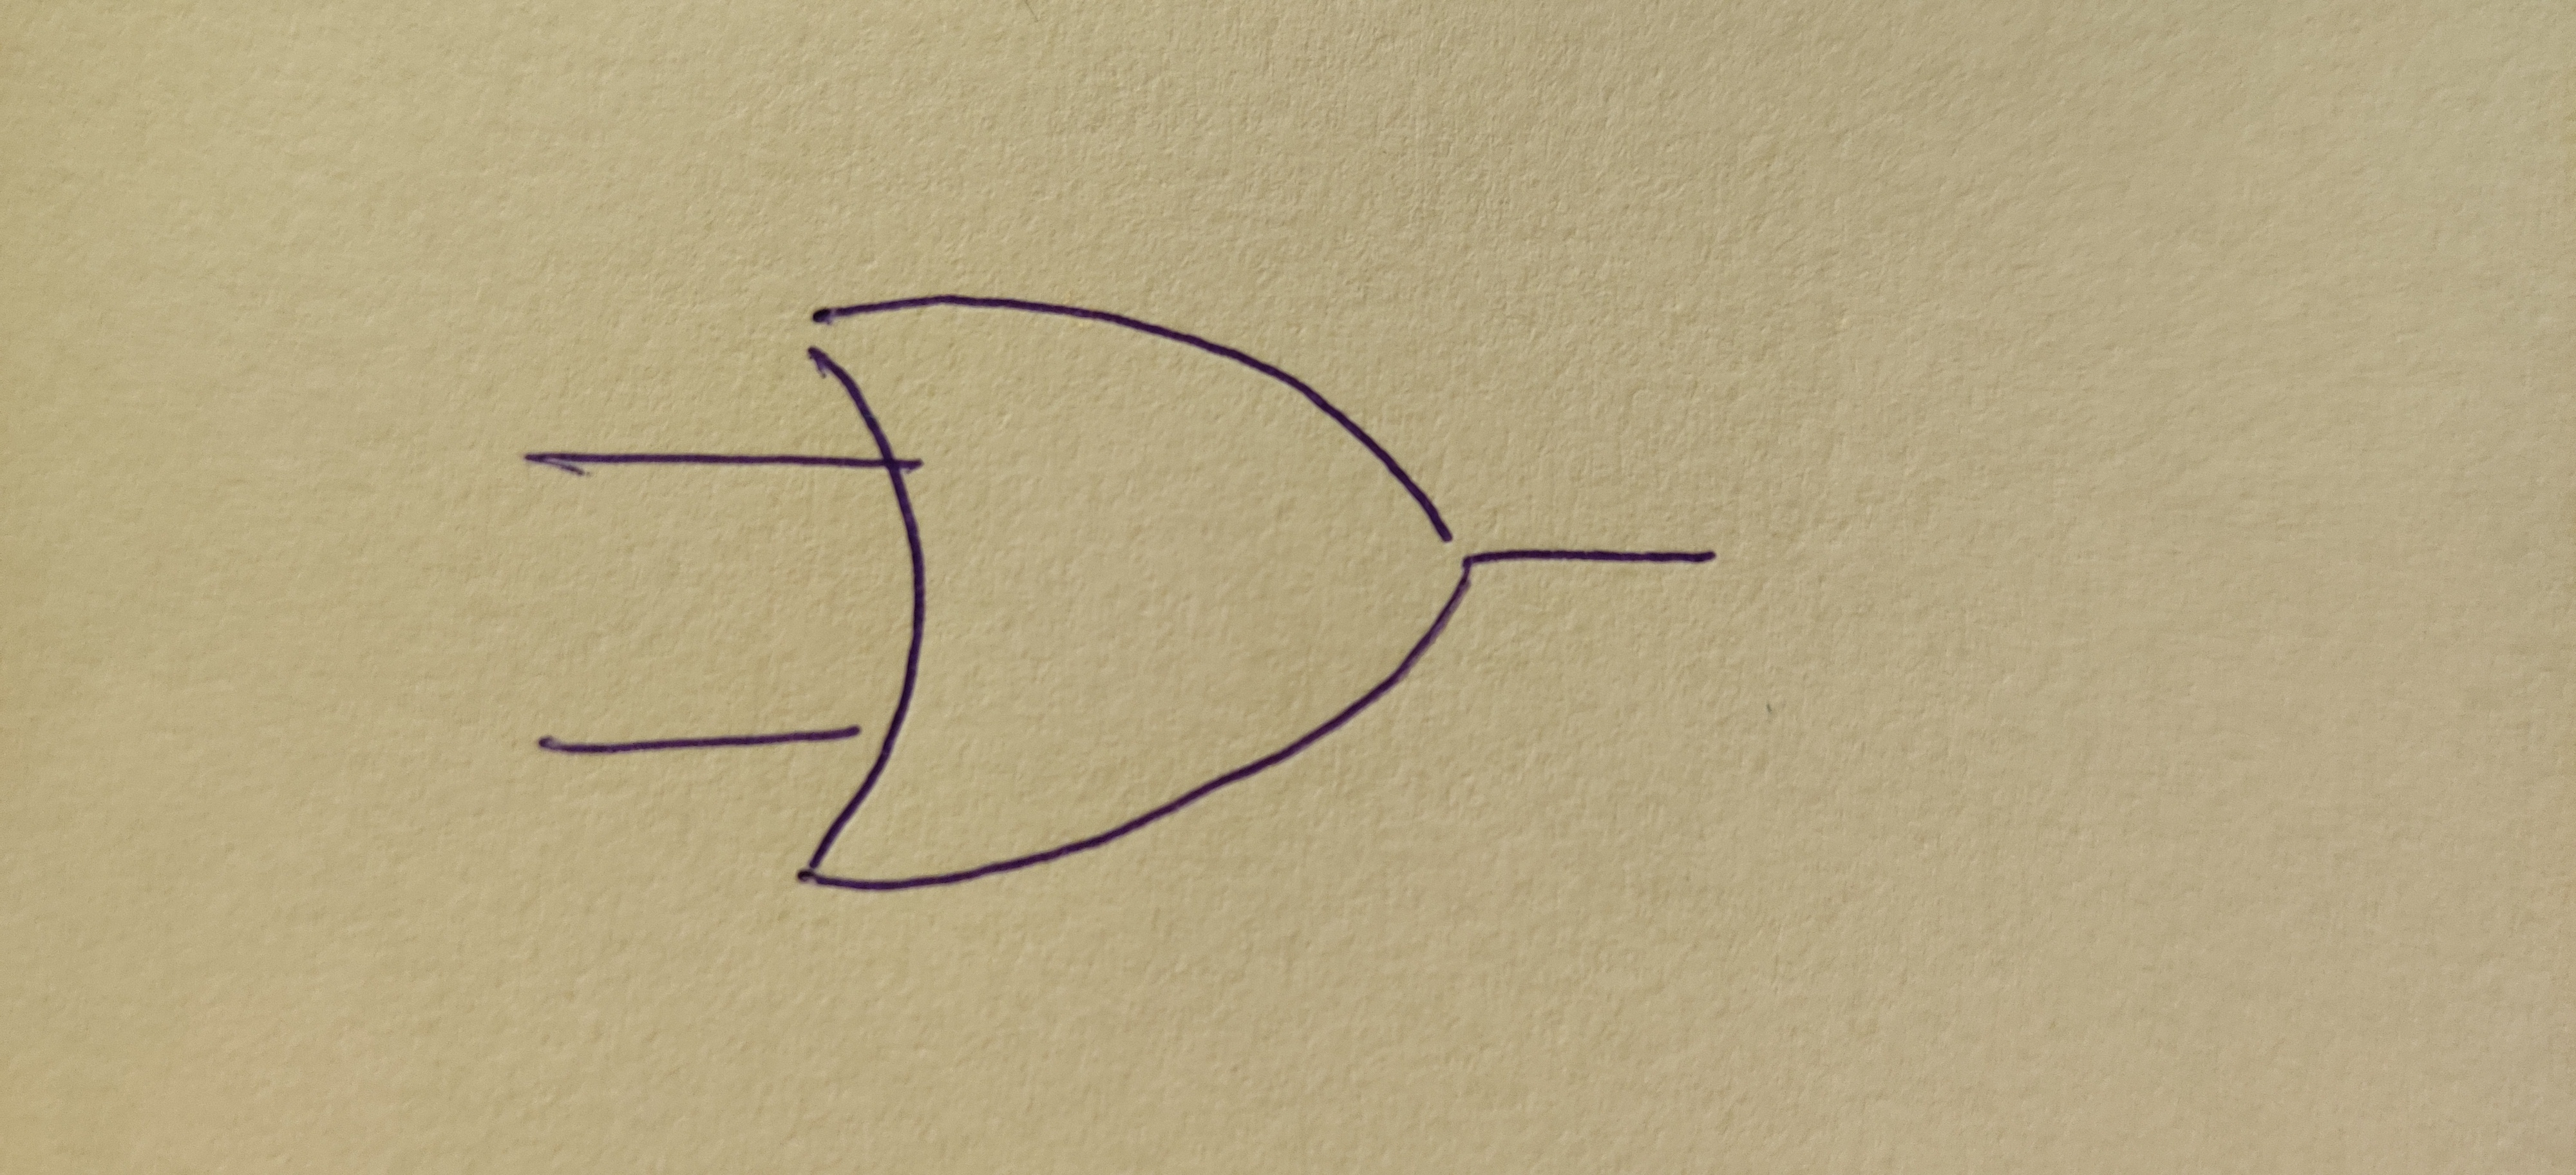or: (800, 293, 1467, 894)
